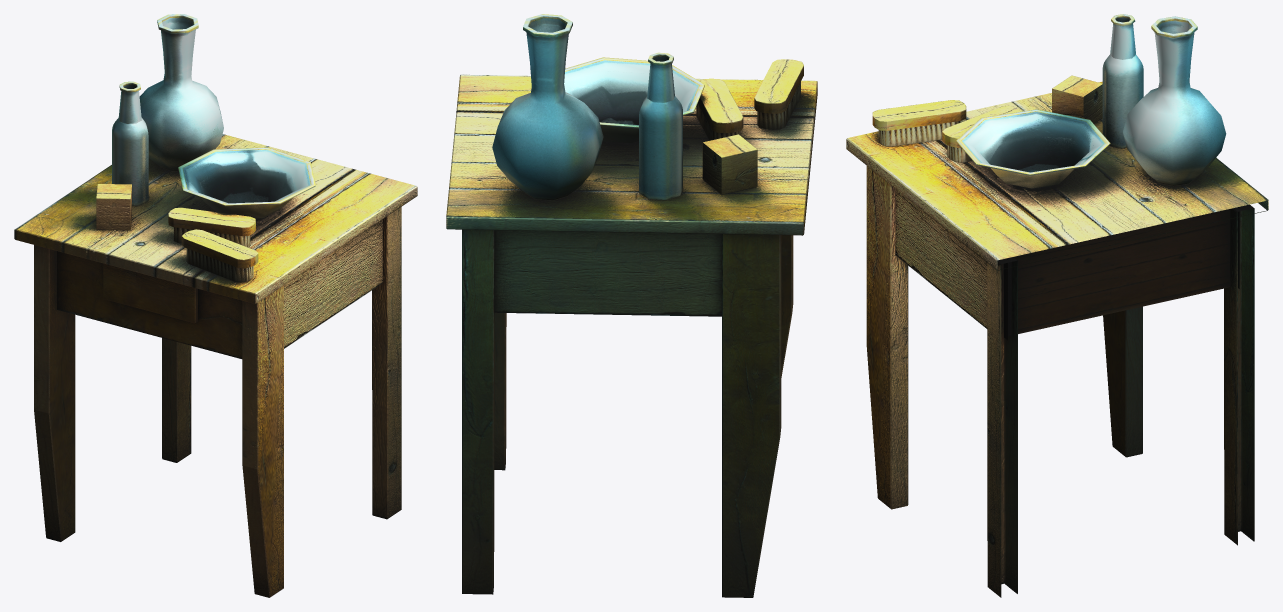
Rendered from mesa.obj.
3 views of the same model, side by side, from view 1: azimuth 30°, elevation 25°; view 2: azimuth 150°, elevation 25°; view 3: azimuth 270°, elevation 25° (orthographic). The views are drawn at different scales.
Visible parts, largest first — view 1: polySurface1 pasted__table group, pasted__table group polySurface3, pasted__table group polySurface8, pasted__table group polySurface18, pasted__table group polySurface15, pasted__table group polySurface6, pasted__polySurface17 pasted__pasted__table pasted__group group1, pasted__table group polySurface5, pasted__table group polySurface19, pasted__table group polySurface16, pasted__table group polySurface9, pasted__table group polySurface14 (+3 smaller); view 2: polySurface1 pasted__table group, pasted__table group polySurface8, pasted__table group polySurface4, pasted__table group polySurface15, pasted__table group polySurface19, pasted__polySurface17 pasted__pasted__table pasted__group group1, pasted__table group polySurface16, pasted__table group polySurface2, pasted__table group polySurface18, pasted__table group polySurface12, pasted__table group polySurface14, pasted__table group polySurface3 (+1 smaller); view 3: polySurface1 pasted__table group, pasted__table group polySurface7, pasted__table group polySurface3, pasted__table group polySurface15, pasted__table group polySurface19, pasted__table group polySurface18, pasted__polySurface17 pasted__pasted__table pasted__group group1, pasted__table group polySurface5, pasted__table group polySurface8, pasted__table group polySurface16, pasted__table group polySurface12, pasted__table group polySurface2 (+2 smaller).
Boxes of the visible parts, x1=… form: polySurface1 pasted__table group: x1=14, y1=134, x2=417, y2=303; pasted__table group polySurface3: x1=242, y1=285, x2=283, y2=597; pasted__table group polySurface8: x1=34, y1=245, x2=75, y2=541; pasted__table group polySurface18: x1=372, y1=207, x2=401, y2=519; pasted__table group polySurface15: x1=139, y1=14, x2=223, y2=170; pasted__table group polySurface6: x1=57, y1=251, x2=242, y2=358; pasted__polySurface17 pasted__pasted__table pasted__group group1: x1=178, y1=147, x2=315, y2=219; pasted__table group polySurface5: x1=284, y1=219, x2=382, y2=348; pasted__table group polySurface19: x1=162, y1=338, x2=191, y2=462; pasted__table group polySurface16: x1=112, y1=81, x2=148, y2=205; pasted__table group polySurface9: x1=103, y1=263, x2=197, y2=323; pasted__table group polySurface14: x1=168, y1=207, x2=255, y2=236; polySurface1 pasted__table group: x1=446, y1=74, x2=817, y2=235; pasted__table group polySurface8: x1=722, y1=234, x2=781, y2=597; pasted__table group polySurface4: x1=494, y1=230, x2=721, y2=316; pasted__table group polySurface15: x1=492, y1=14, x2=603, y2=200; pasted__table group polySurface19: x1=462, y1=229, x2=494, y2=594; pasted__polySurface17 pasted__pasted__table pasted__group group1: x1=564, y1=57, x2=704, y2=144; pasted__table group polySurface16: x1=639, y1=52, x2=682, y2=199; pasted__table group polySurface2: x1=702, y1=134, x2=757, y2=194; pasted__table group polySurface18: x1=494, y1=312, x2=506, y2=470; pasted__table group polySurface12: x1=754, y1=59, x2=803, y2=113; pasted__table group polySurface14: x1=698, y1=78, x2=743, y2=133; pasted__table group polySurface3: x1=781, y1=235, x2=793, y2=377; polySurface1 pasted__table group: x1=846, y1=81, x2=1268, y2=270; pasted__table group polySurface7: x1=1004, y1=207, x2=1239, y2=340; pasted__table group polySurface3: x1=866, y1=166, x2=908, y2=509; pasted__table group polySurface15: x1=1123, y1=16, x2=1226, y2=185; pasted__table group polySurface19: x1=1224, y1=204, x2=1254, y2=545; pasted__table group polySurface18: x1=987, y1=257, x2=1017, y2=597; pasted__polySurface17 pasted__pasted__table pasted__group group1: x1=956, y1=109, x2=1110, y2=189; pasted__table group polySurface5: x1=895, y1=189, x2=987, y2=328; pasted__table group polySurface8: x1=1103, y1=306, x2=1142, y2=457; pasted__table group polySurface16: x1=1102, y1=14, x2=1143, y2=148; pasted__table group polySurface12: x1=872, y1=100, x2=966, y2=130; pasted__table group polySurface2: x1=1052, y1=75, x2=1102, y2=123.
Bounding box in the file's own units: 1.86 × 2.37 × 1.83.
Materials: 2 (2 with a texture image).
